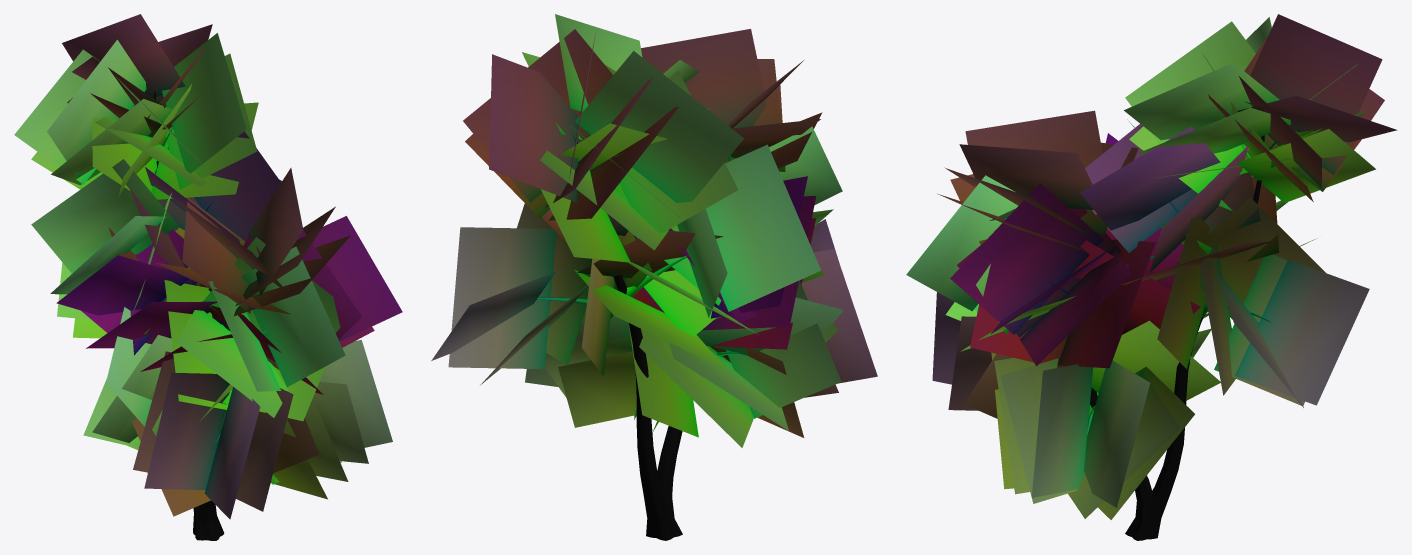
The model's file is URP_P15_Tree_5_LOD_1.fbx.
3 views of the same model, side by side, from view 1: azimuth 30°, elevation 25°; view 2: azimuth 150°, elevation 25°; view 3: azimuth 270°, elevation 25° (orthographic). The views are drawn at different scales.
Visible parts, largest first — view 1: Tree_5_LOD_1; view 2: Tree_5_LOD_1; view 3: Tree_5_LOD_1.
Boxes of the visible parts, bbox=[...] form: Tree_5_LOD_1: bbox=[14, 14, 402, 540]; Tree_5_LOD_1: bbox=[431, 14, 877, 540]; Tree_5_LOD_1: bbox=[906, 14, 1397, 540].
Bounding box in the file's own units: 503 × 819 × 706.
